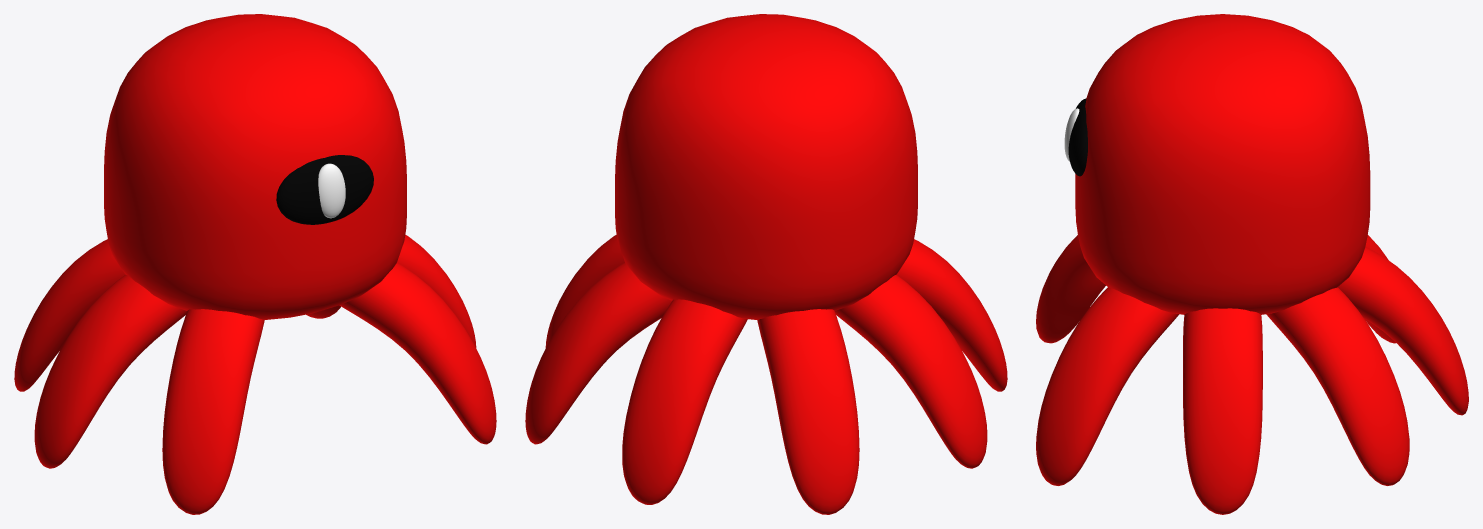
File: enemy.obj
The picture shows the model from 3 angles, left to right: view 1: azimuth 30°, elevation 25°; view 2: azimuth 150°, elevation 25°; view 3: azimuth 270°, elevation 25°; orthographic projection.
Visible parts, largest first — view 1: enemy; view 2: enemy; view 3: enemy.
Boxes of the visible parts, x1,y1,x2,y2 form: enemy: [14, 14, 496, 514]; enemy: [525, 14, 1007, 514]; enemy: [1036, 14, 1468, 514].
Size of the model in its own units: 1.81 by 1.54 by 1.59.
1 material, 1 textured.
